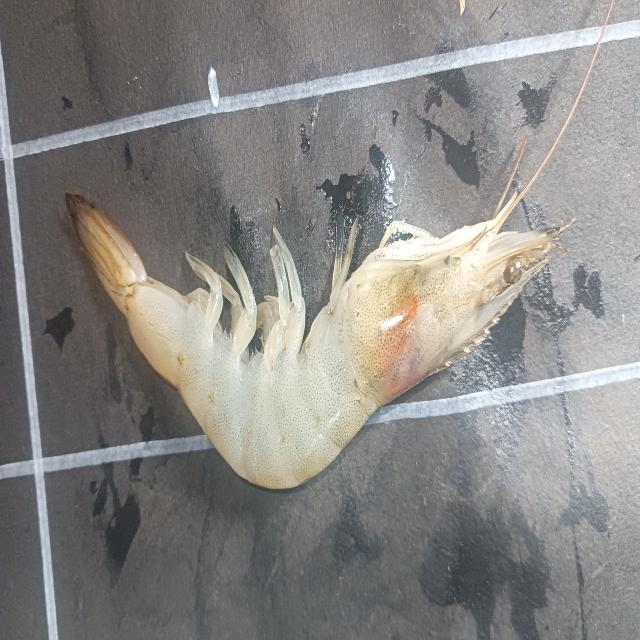shrimp: (66, 193, 566, 489)
